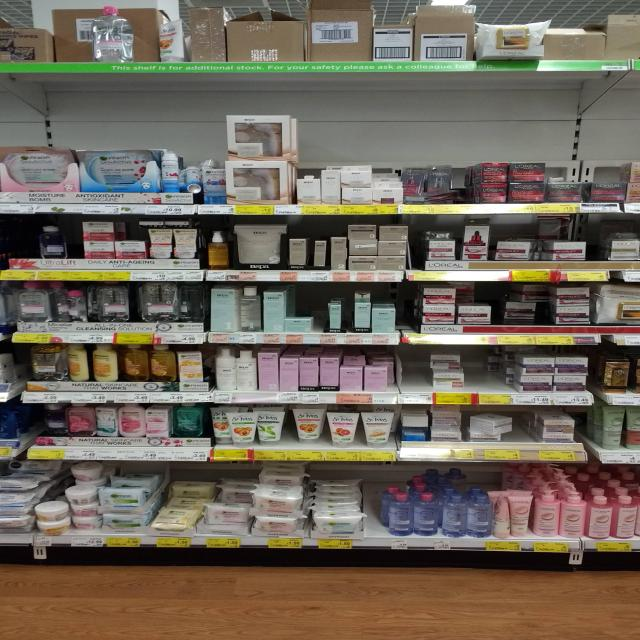empty_space: (476, 353, 503, 390), (401, 350, 426, 388)
